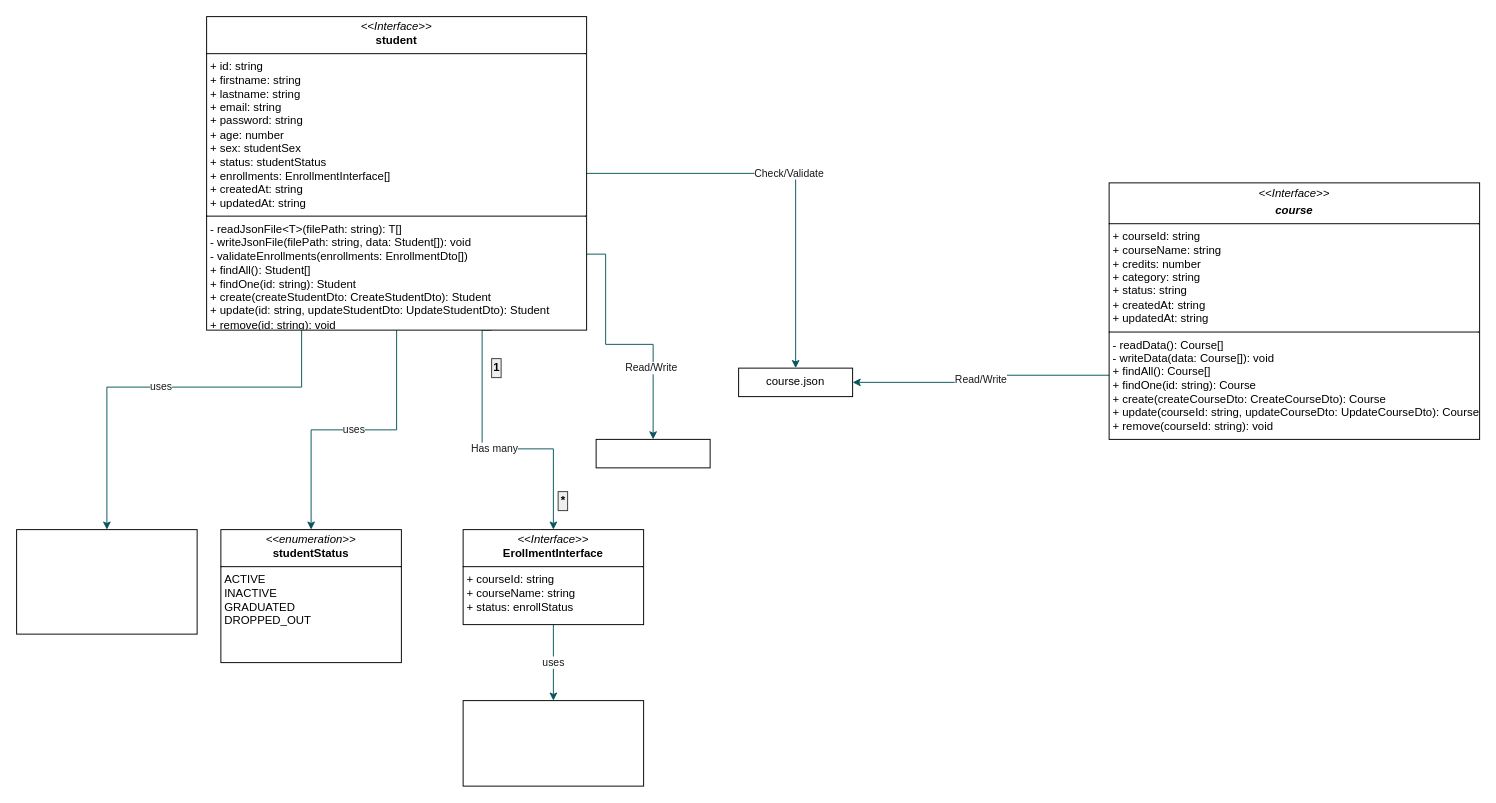
Some shapes in this 1496 by 803 pixel diagram are drawn without their labels. The centre of each missing label's shape, as x and y in pixels:
"<<enumeration>> enrollStatus ENROLLED WAITLISTED DROPPED" belongs at pixel 553 743.
"<<enumeration>> studentSex MALE FEMALE OTHER" belongs at pixel 106 581.
"student.json" belongs at pixel 652 453.
